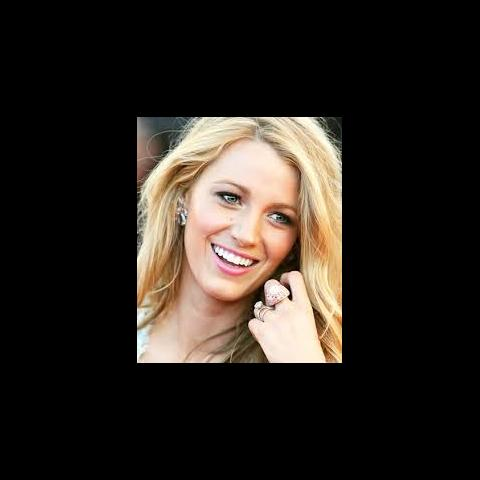opened: (210, 182, 294, 232)
